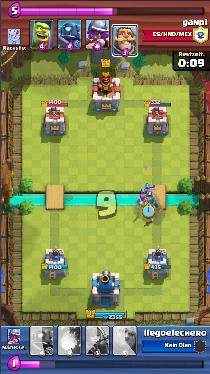ally_archer: (136, 193, 146, 204), (145, 188, 154, 197)
ally_knight: (141, 199, 159, 213)
